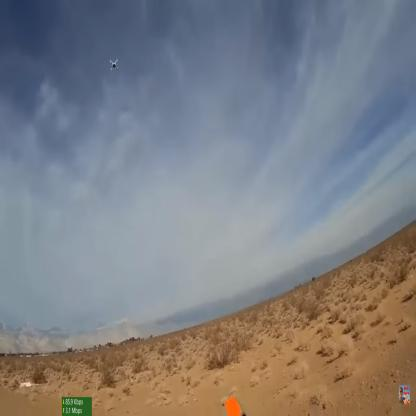drone: (107, 56, 122, 74)
